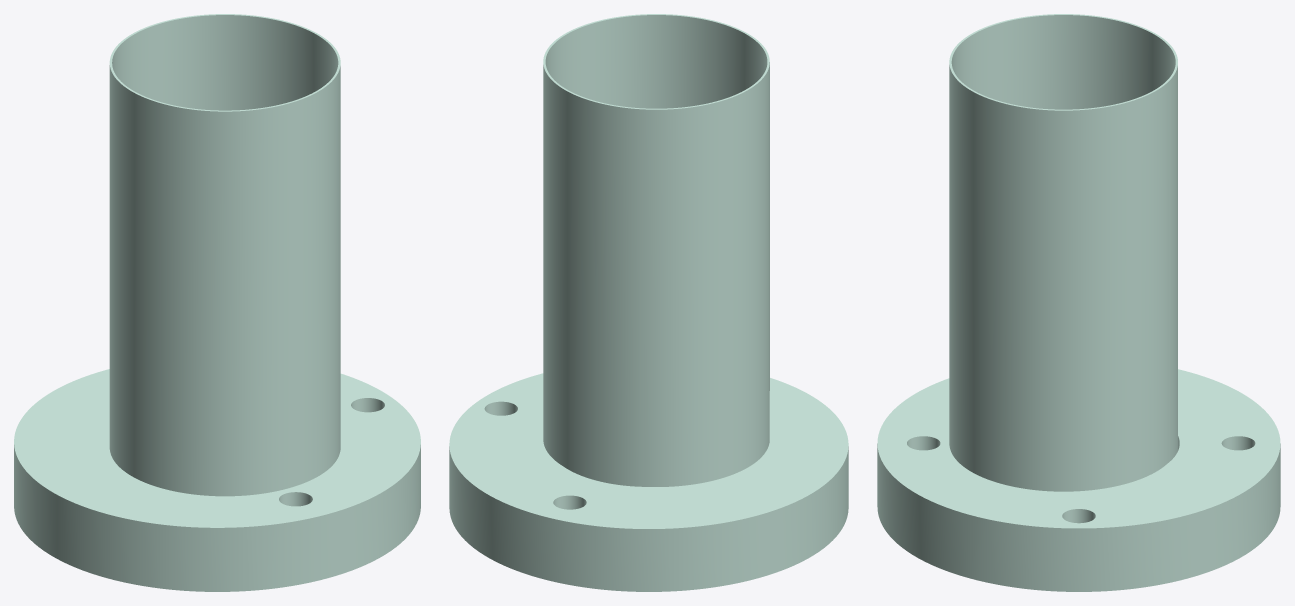
3 views of the same model, side by side, from view 1: azimuth 30°, elevation 25°; view 2: azimuth 150°, elevation 25°; view 3: azimuth 270°, elevation 25° (orthographic).
Parts seen in each view (by area): view 1: Renderer Node; view 2: Renderer Node; view 3: Renderer Node.
Part boxes in pixels (x1=…): Renderer Node: x1=14, y1=14, x2=420, y2=591; Renderer Node: x1=449, y1=14, x2=848, y2=591; Renderer Node: x1=877, y1=14, x2=1280, y2=591.
Bounding box in the file's own units: 0.584 × 0.7109 × 0.5842.
